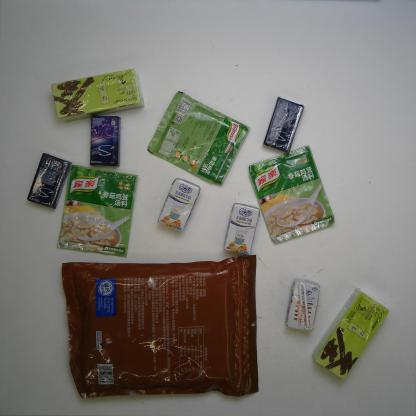Dried Food: (60, 253, 260, 399)
Gum: (28, 152, 73, 209), (262, 93, 304, 153), (88, 111, 122, 167)
Instant Drink: (312, 287, 390, 382), (50, 67, 146, 120)
Milk: (157, 174, 202, 231), (284, 277, 324, 332), (223, 202, 262, 257)
Seasoner: (146, 90, 252, 187), (246, 146, 335, 244), (56, 164, 141, 259)
